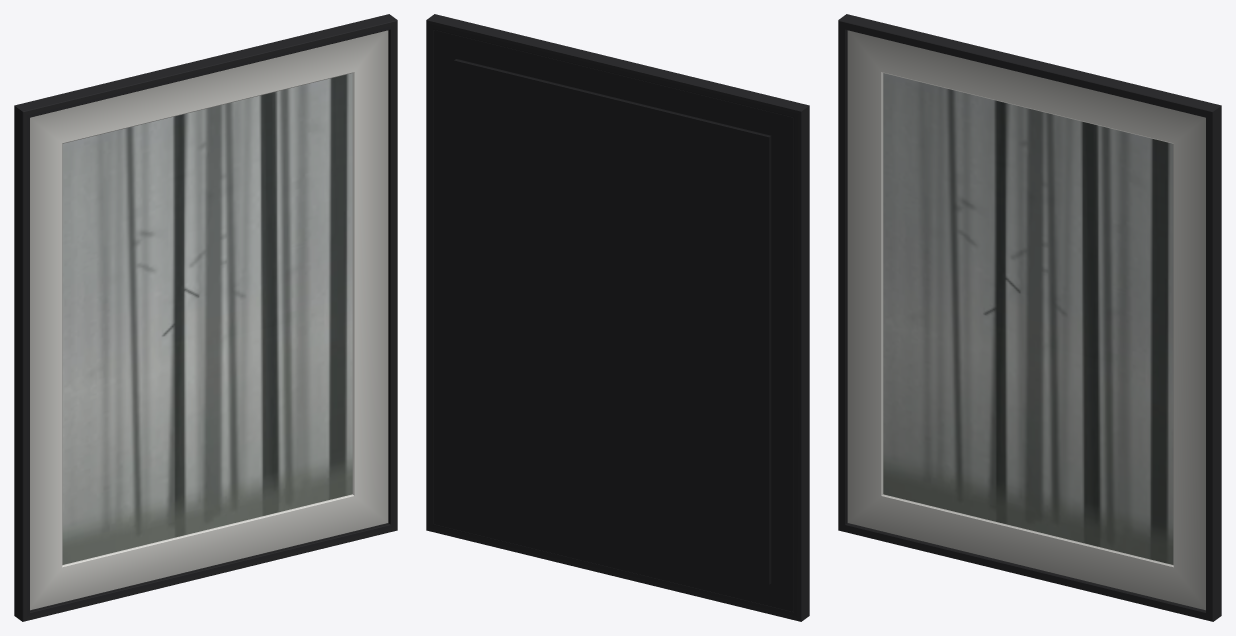
File: art_fog_pines.gltf
3 views of the same model, side by side, from view 1: azimuth 30°, elevation 25°; view 2: azimuth 150°, elevation 25°; view 3: azimuth 330°, elevation 25° (orthographic).
Parts seen in each view (by area): view 1: Art_FogPines_Art, Art_FogPines_Mat, Art_FogPines_Frame; view 2: Art_FogPines_Spacer, Art_FogPines_Backing, Art_FogPines_Frame; view 3: Art_FogPines_Art, Art_FogPines_Mat, Art_FogPines_Frame.
Part boxes in pixels (x1=…): Art_FogPines_Art: x1=62, y1=73, x2=352, y2=564; Art_FogPines_Mat: x1=30, y1=30, x2=388, y2=610; Art_FogPines_Frame: x1=14, y1=14, x2=397, y2=621; Art_FogPines_Spacer: x1=454, y1=59, x2=771, y2=584; Art_FogPines_Backing: x1=434, y1=30, x2=793, y2=611; Art_FogPines_Frame: x1=426, y1=14, x2=809, y2=621; Art_FogPines_Art: x1=883, y1=73, x2=1173, y2=564; Art_FogPines_Mat: x1=847, y1=30, x2=1205, y2=610; Art_FogPines_Frame: x1=838, y1=14, x2=1221, y2=621.
Bounding box in the file's own units: 1 × 1.3 × 0.05.
4 materials, 1 textured.
